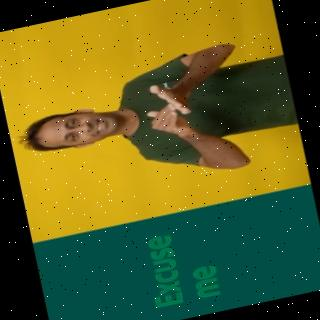ExcuseMe: (5, 30, 302, 211)
